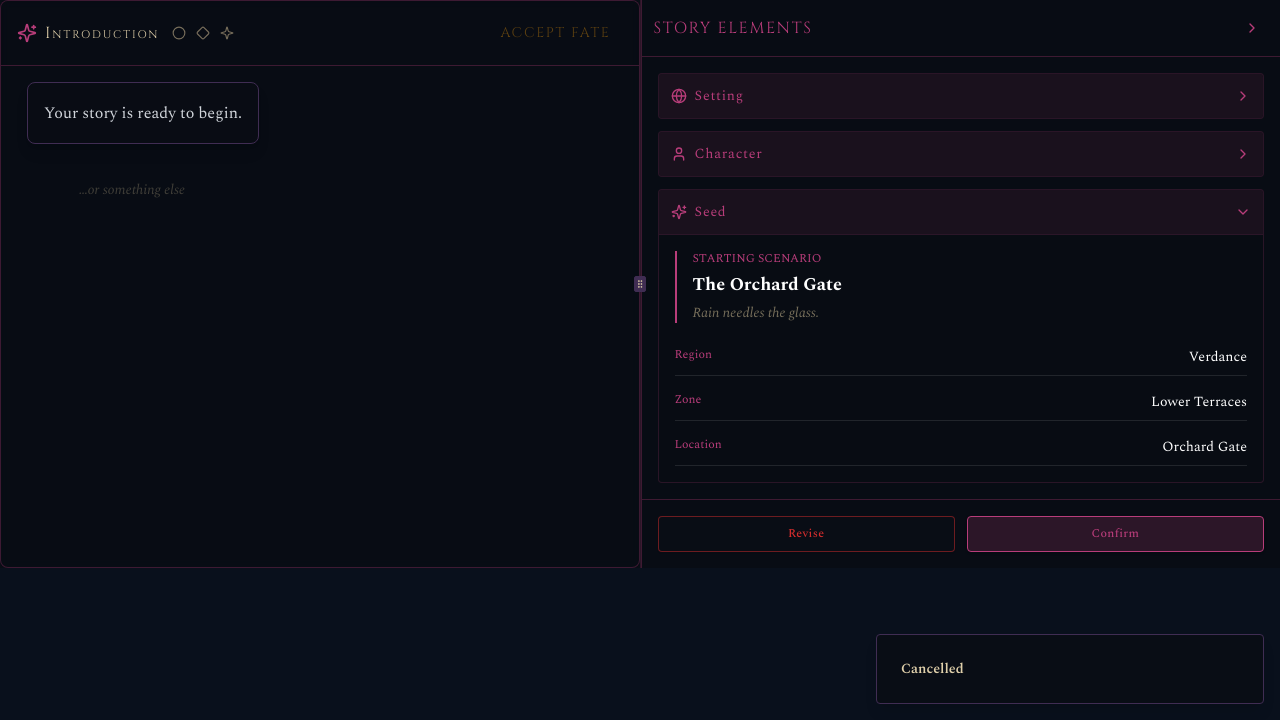
Test case: genesis stage waiter › marks the stage the gateway recorded as failed and keeps the error with Retry and Cancel
Click the button "Confirm".
click(1115, 534)  # box x1=967 y1=516 x2=1264 y2=552
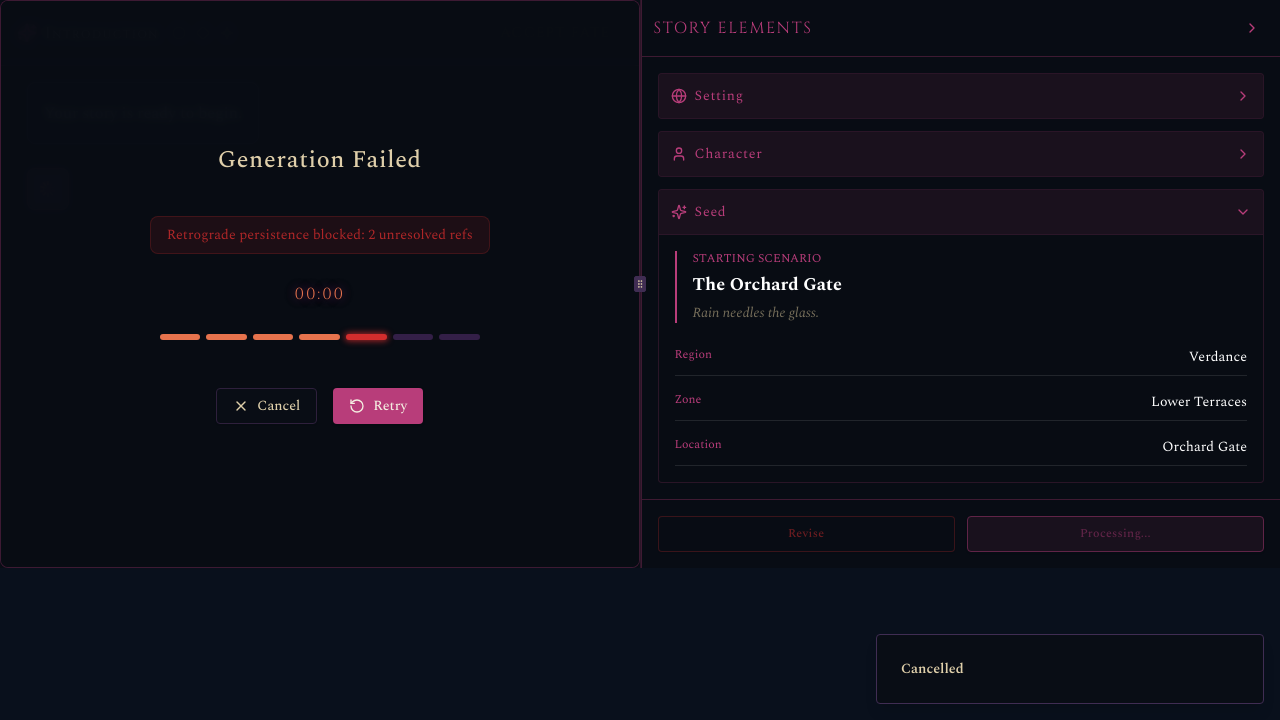
Expected: the text "Retrograde persistence blocked: 2 unresolved refs" is shown, x1=150 y1=216 x2=490 y2=254
Expected: the heading "Generation Failed" is shown, x1=218 y1=144 x2=422 y2=176
Expected: the button "Retry" is enabled
Click the button "Retry".
click(378, 406)  # box x1=333 y1=388 x2=423 y2=424
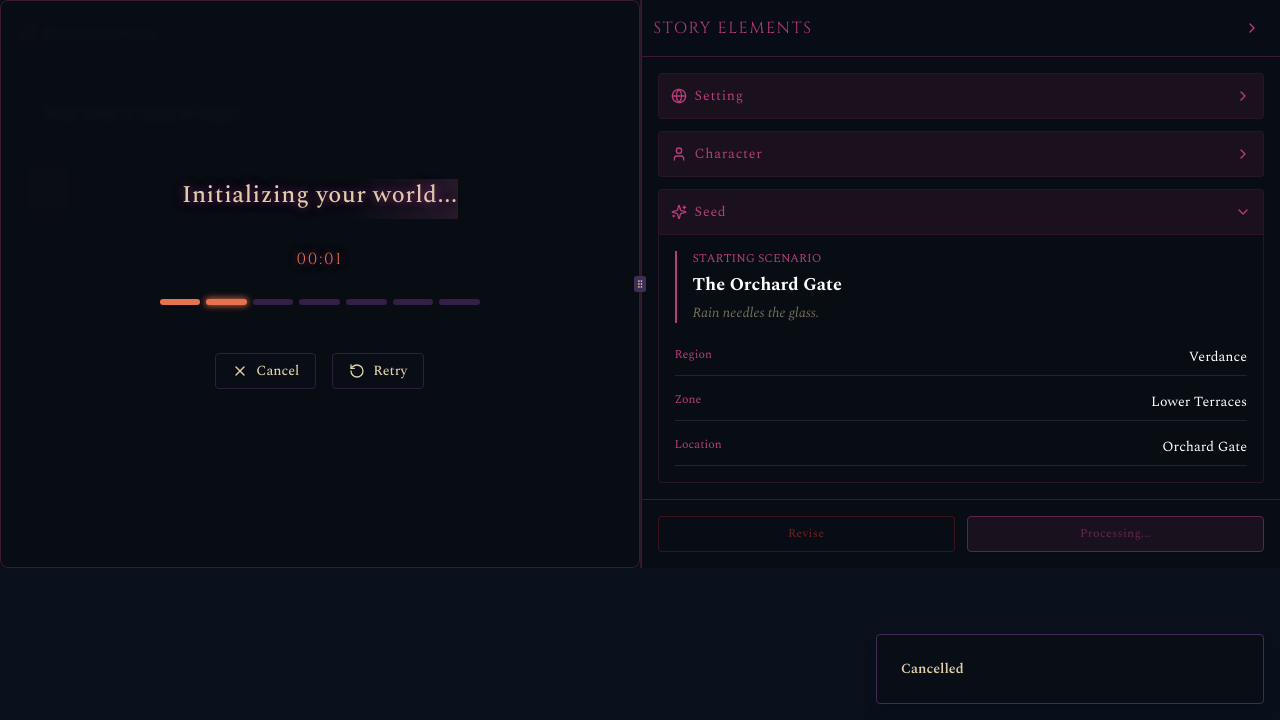
Expected: the heading "Generation Failed" is gone
